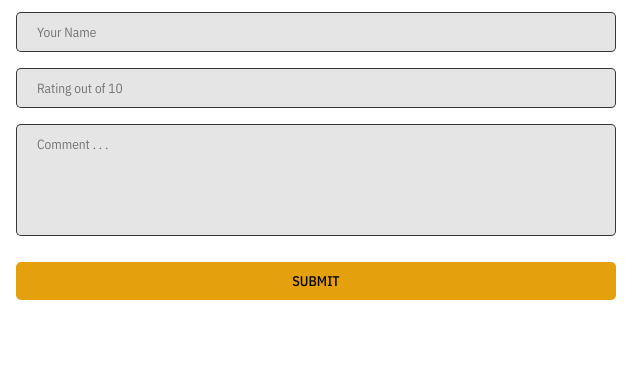
Test: ReviewForm › validates name with one character, rating less than 1, comment less than 10 characters, and shows errors
In the field with placeholder "Your Name": (316, 32) 16,12 -> 616,52, type "B"
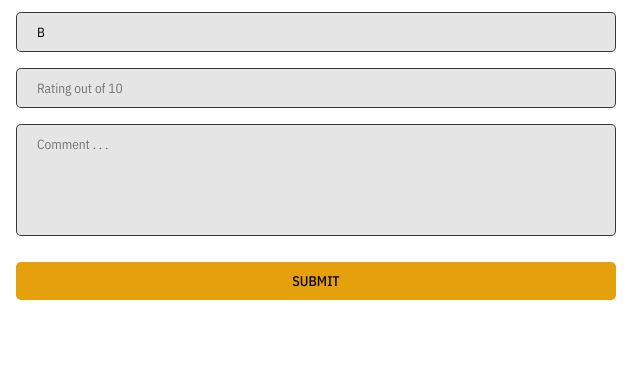
In the number field with placeholder "Rating out of 10": (316, 88) 16,68 -> 616,108, type "0"
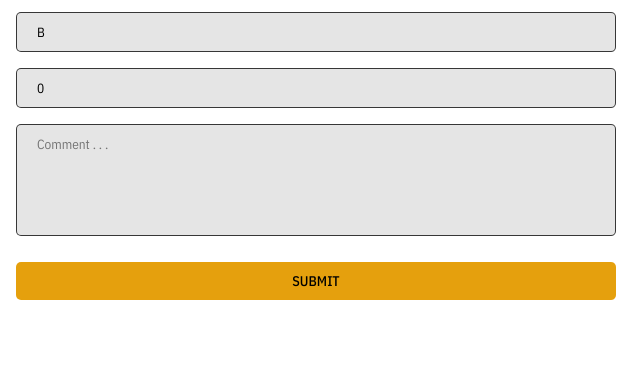
In the text box with placeholder "Comment . . .": (316, 180) 16,124 -> 616,236, type "Great!"
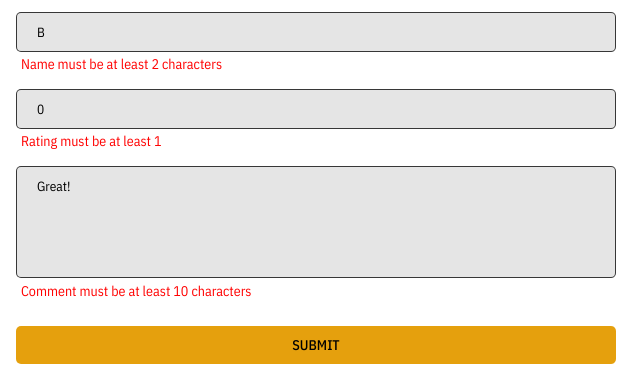
expect the text "Name must be at least 2 characters" is shown: met, box 21,55 -> 222,73
expect the text "Rating must be at least 1" is shown: met, box 21,132 -> 162,150
expect the text "Comment must be at least 10 characters" is shown: met, box 21,282 -> 252,300
